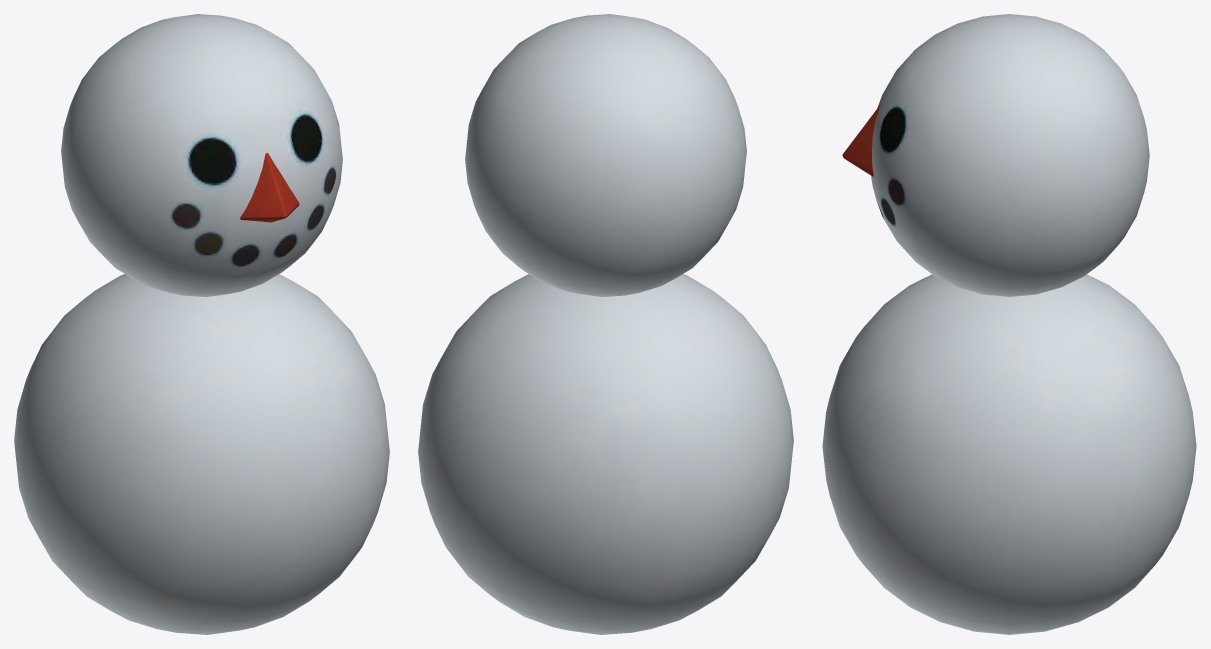
Rendered from snowboy-0.glb.
3 renders of one model, left to right at view 1: azimuth 30°, elevation 25°; view 2: azimuth 150°, elevation 25°; view 3: azimuth 270°, elevation 25°, orthographic.
Size of the model in its own units: 9.91 by 17.24 by 9.91.
2 materials, 2 textured.
